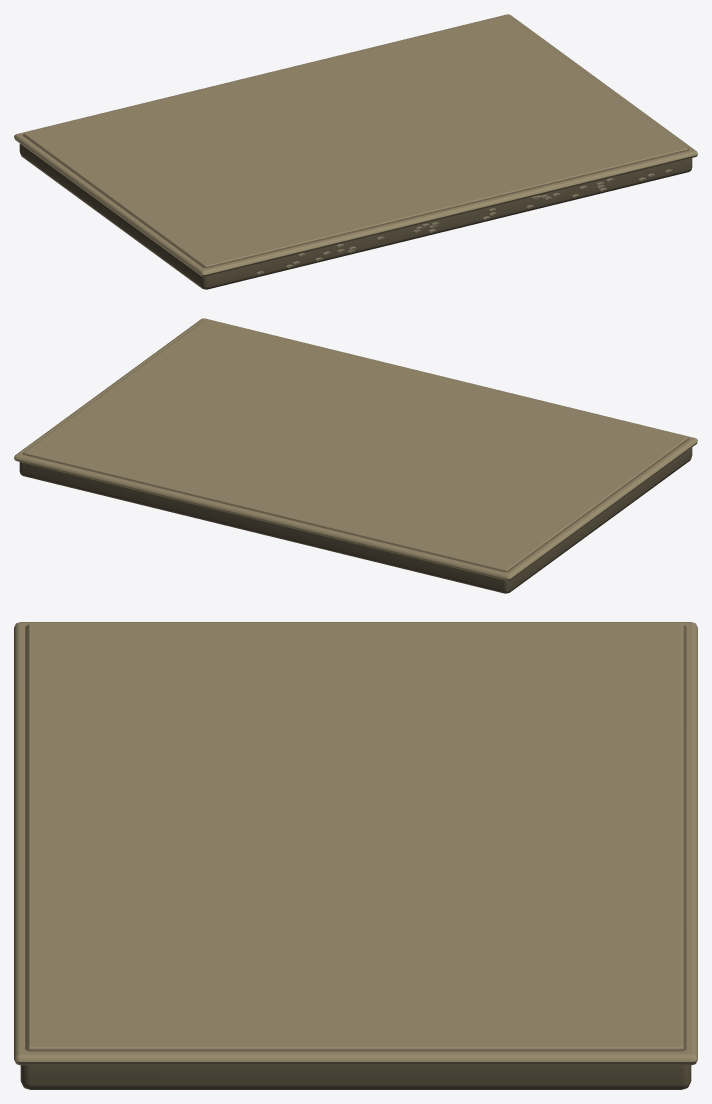
Rendered from garden_base.glb.
The picture shows the model from 3 angles, top to bottom: view 1: azimuth 30°, elevation 25°; view 2: azimuth 150°, elevation 25°; view 3: azimuth 270°, elevation 25°; orthographic projection. The views are drawn at different scales.
Parts seen in each view (by area): view 1: GroundSurface, Earthen foundation, Soil horizon; view 2: GroundSurface, Earthen foundation, Soil horizon; view 3: GroundSurface, Earthen foundation, Soil horizon.
Part boxes in pixels (bbox=[...]): GroundSurface: bbox=[24, 16, 687, 267]; Earthen foundation: bbox=[19, 20, 692, 289]; Soil horizon: bbox=[14, 14, 697, 276]; GroundSurface: bbox=[24, 320, 687, 571]; Earthen foundation: bbox=[19, 324, 692, 593]; Soil horizon: bbox=[14, 318, 697, 580]; GroundSurface: bbox=[28, 623, 683, 1049]; Earthen foundation: bbox=[20, 625, 691, 1089]; Soil horizon: bbox=[14, 622, 697, 1065].
Bounding box in the file's own units: 23.65 × 1.08 × 15.65.
